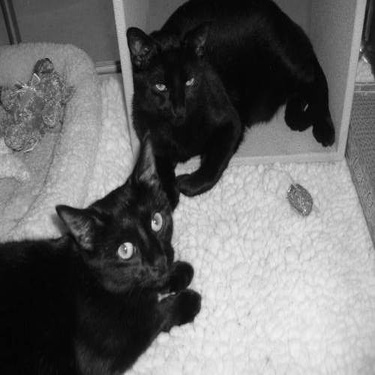cat: (1, 130, 211, 365), (132, 1, 326, 212)
